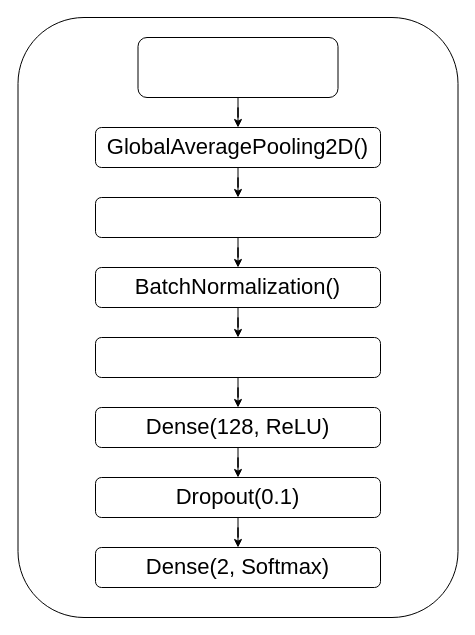
This 475x635 diagram has some shape labels left out. Each missing label, with the centre of its shape:
Dense(512, ReLU): (x=237, y=217)
Dropout(0.3): (x=237, y=357)
Transfer Learning: (x=237, y=67)
